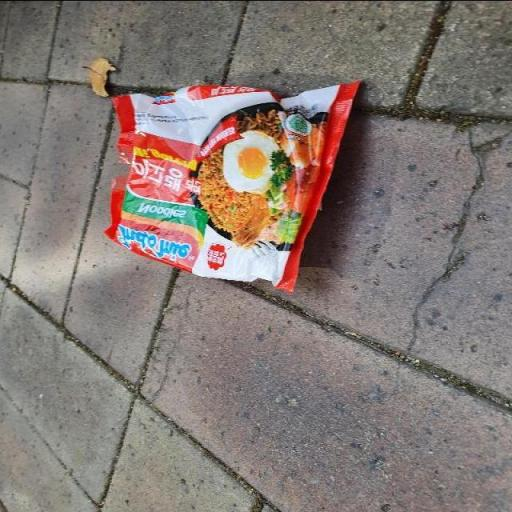plastic-bag: (109, 78, 366, 293)
